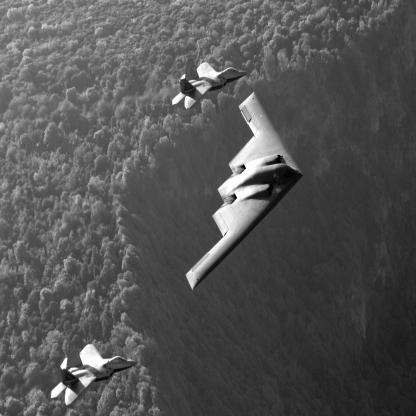B2: (186, 92, 305, 292)
F22: (52, 343, 140, 407), (173, 59, 249, 110)
